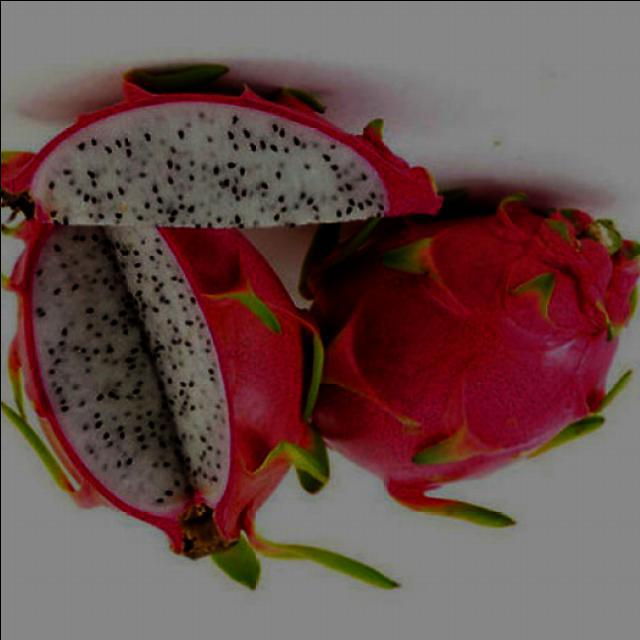trang: (1, 223, 407, 608), (302, 182, 639, 532), (1, 61, 448, 222)
